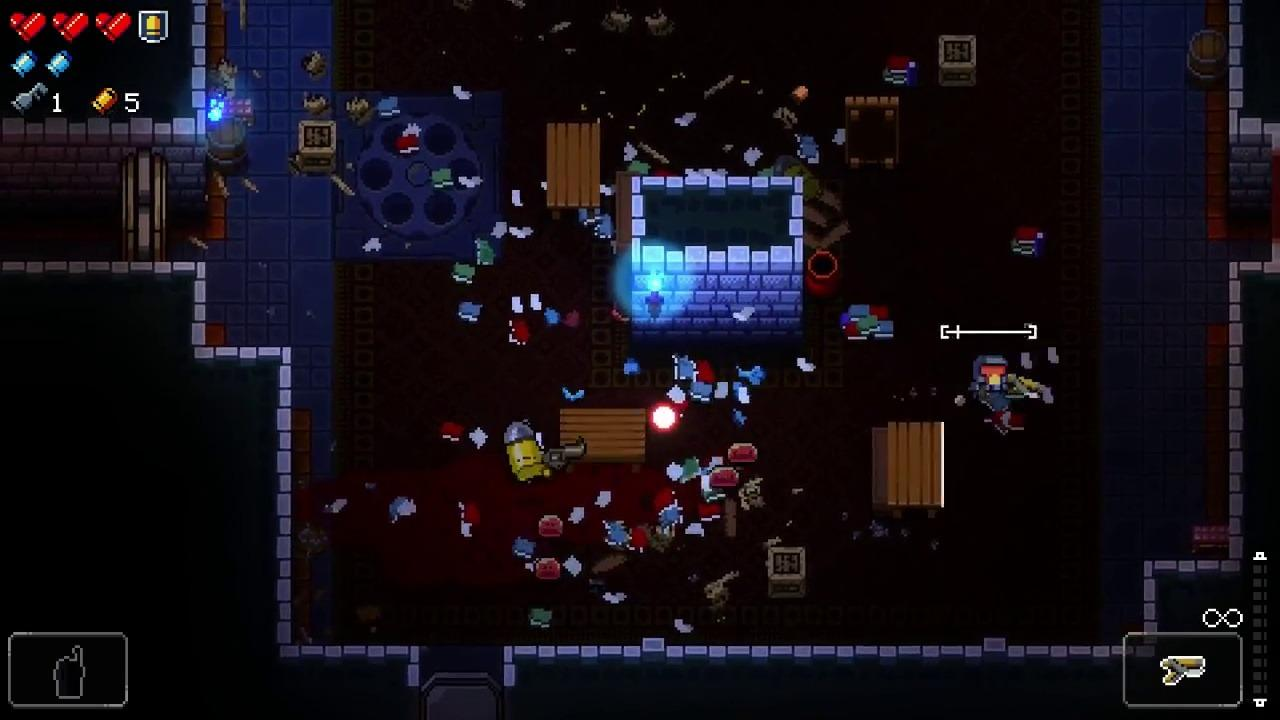blobulin_s: (538, 513, 565, 540), (729, 441, 759, 464), (709, 467, 740, 489), (536, 558, 562, 583)
bullet: (649, 403, 681, 433)
bullet_kin: (504, 422, 554, 484)
locked_door: (121, 146, 167, 263)
player: (972, 355, 1010, 402)
table: (560, 407, 647, 474), (546, 122, 602, 219), (887, 423, 943, 519), (844, 97, 899, 171)
teleporter: (333, 90, 503, 259)
wall: (631, 177, 803, 341)
